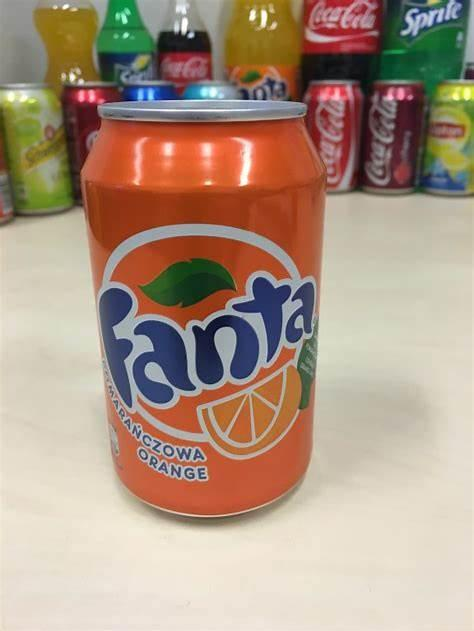metal: (81, 100, 324, 518)
